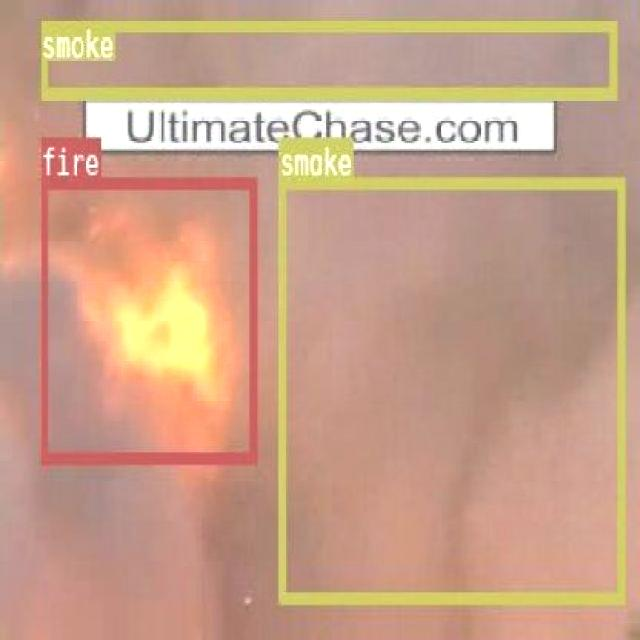fire: (39, 176, 255, 462)
smoke: (278, 176, 622, 602), (39, 19, 616, 96)
